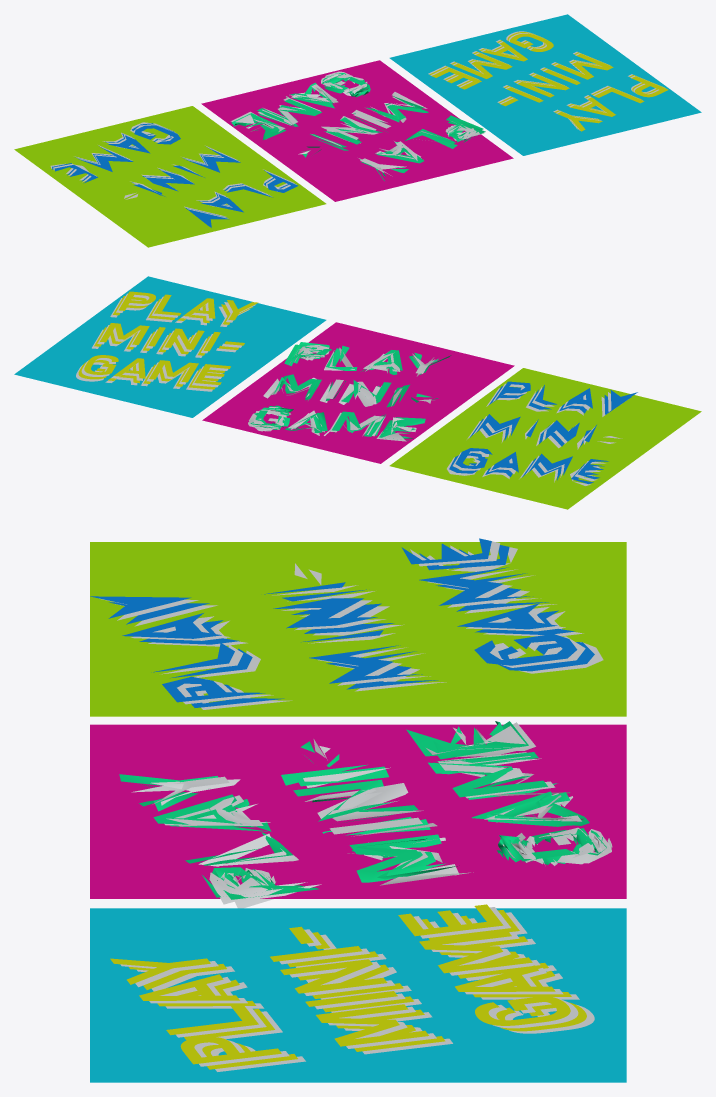
The model's file is pmg2.fbx.
The picture shows the model from 3 angles, top to bottom: view 1: azimuth 30°, elevation 25°; view 2: azimuth 150°, elevation 25°; view 3: azimuth 270°, elevation 25°; orthographic projection. The views are drawn at different scales.
Visible parts, largest first — view 1: Plane.002, Plane.001, Plane, Text.011, Text.003, Text.010, Text.001, Text.007, Text.004; view 2: Plane.002, Plane, Plane.001, Text.011, Text.003, Text.010, Text.001, Text.007, Text.004; view 3: Plane.002, Plane, Plane.001, Text.011, Text.003, Text.010, Text.007, Text.001, Text.004.
Boxes of the visible parts, x1,y1,x2,y2 form: Plane.002: (14, 106, 326, 247); Plane.001: (389, 14, 701, 155); Plane: (201, 60, 513, 201); Text.011: (230, 71, 485, 180); Text.003: (50, 122, 298, 227); Text.010: (432, 33, 668, 131); Text.001: (429, 32, 665, 129); Text.007: (430, 33, 658, 130); Text.004: (428, 31, 662, 129); Plane.002: (389, 368, 701, 509); Plane: (202, 322, 514, 463); Plane.001: (14, 276, 326, 417); Text.011: (248, 342, 451, 441); Text.003: (447, 381, 637, 485); Text.010: (84, 291, 258, 384); Text.001: (78, 296, 252, 389); Text.007: (81, 293, 255, 387); Text.004: (76, 298, 249, 391); Plane.002: (90, 542, 626, 716); Plane: (90, 724, 626, 898); Plane.001: (90, 908, 626, 1082); Text.011: (119, 721, 612, 908); Text.003: (90, 538, 603, 709); Text.010: (110, 904, 570, 1064); Text.007: (120, 907, 578, 1066); Text.001: (128, 910, 586, 1069); Text.004: (137, 912, 594, 1071).
Bounding box in the file's own units: 836 × 19.79 × 351.
